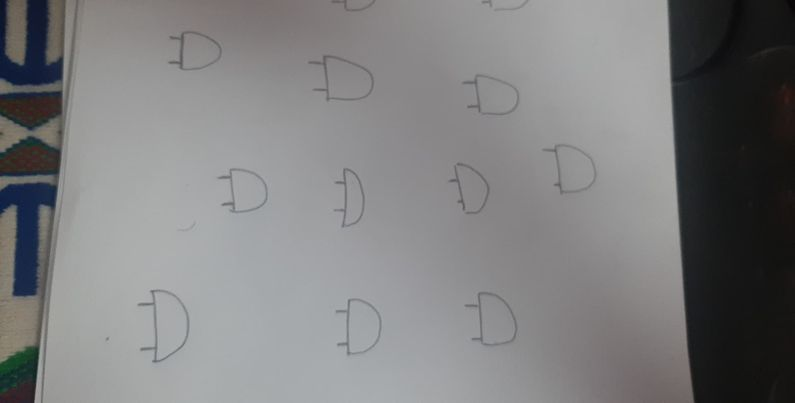and: (133, 284, 194, 366), (460, 283, 523, 356), (303, 49, 381, 106), (328, 290, 387, 362), (163, 20, 229, 78), (458, 66, 526, 122), (540, 141, 601, 197), (213, 164, 271, 220), (449, 156, 495, 222), (330, 166, 373, 234)
